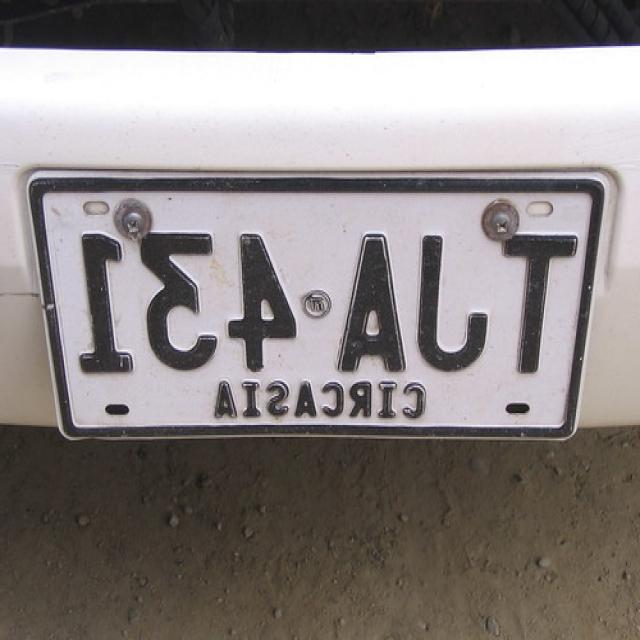placas: (42, 218, 585, 386)
